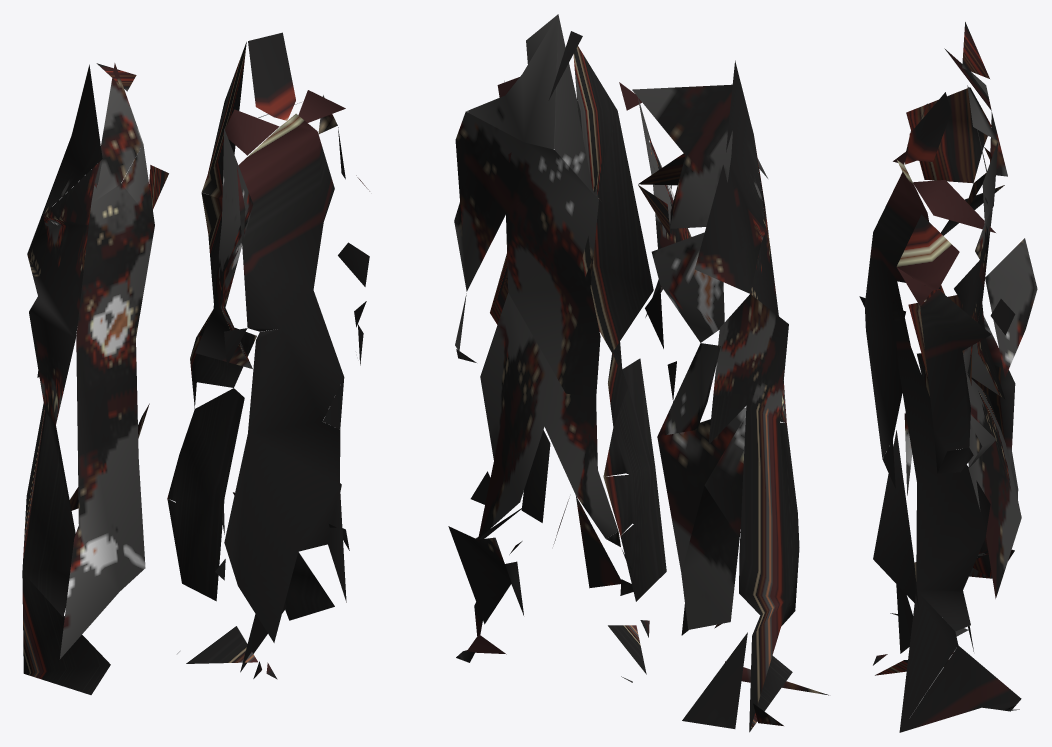
3 views of the same model, side by side, from view 1: azimuth 30°, elevation 25°; view 2: azimuth 150°, elevation 25°; view 3: azimuth 270°, elevation 25° (orthographic). The views are drawn at different scales.
Visible parts, largest first — view 1: body.002; view 2: body.002; view 3: body.002.
Part boxes in pixels (box(x1,y1,x2,y2)): body.002: box(22, 32, 369, 694); body.002: box(448, 14, 828, 732); body.002: box(859, 22, 1037, 732).
Size of the model in its own units: 1.13 by 2.04 by 0.537.
Materials: 1 (1 with a texture image).
